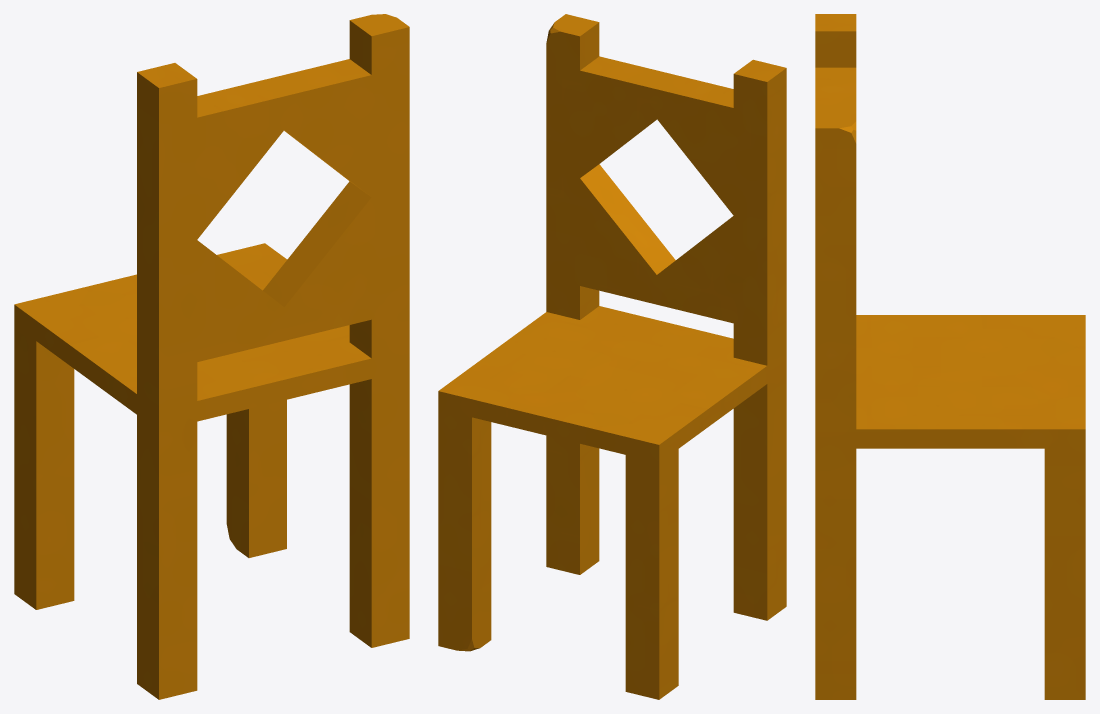
The model's file is Chair_1.fbx.
3 renders of one model, left to right at view 1: azimuth 30°, elevation 25°; view 2: azimuth 150°, elevation 25°; view 3: azimuth 270°, elevation 25°, orthographic. The views are drawn at different scales.
Parts seen in each view (by area): view 1: Chair 1; view 2: Chair 1; view 3: Chair 1.
Boxes of the visible parts, x1,y1,x2,y2 form: Chair 1: [14, 14, 409, 699]; Chair 1: [438, 14, 786, 699]; Chair 1: [815, 14, 1085, 699].
Bounding box in the file's own units: 52.89 × 123 × 52.89.
